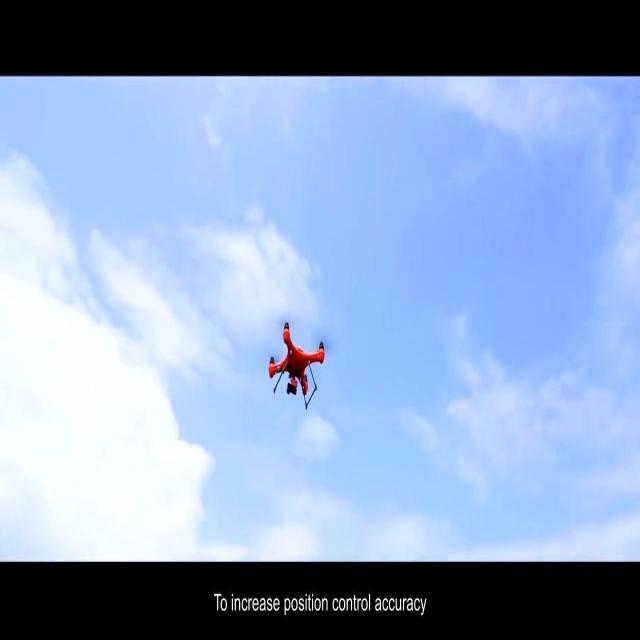drone: (267, 316, 327, 412)
